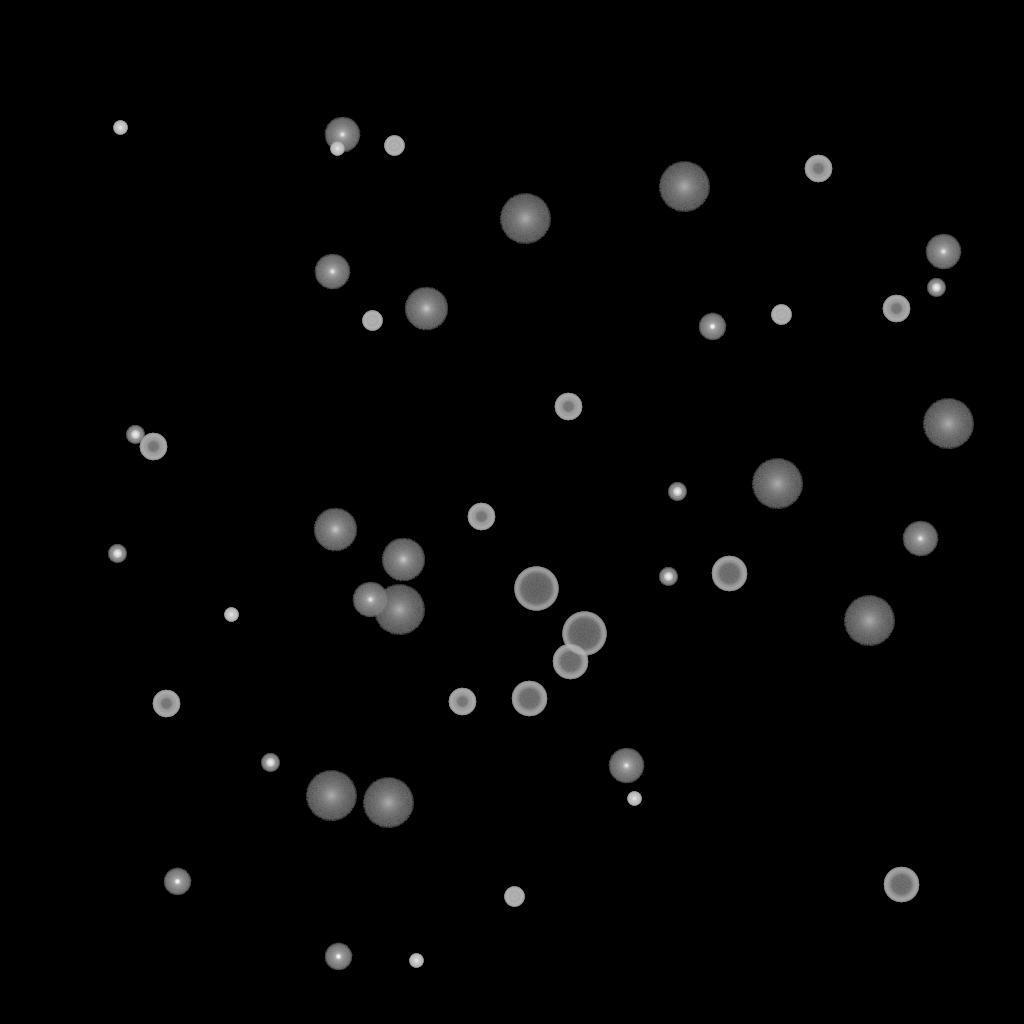depth:-10: (324, 943, 352, 971), (698, 313, 726, 341), (163, 868, 191, 896)
depth:-20: (126, 426, 144, 444), (261, 754, 279, 772), (108, 545, 126, 563), (927, 279, 945, 297), (668, 483, 686, 501), (659, 568, 677, 586)
depth:-30: (330, 142, 344, 156), (627, 792, 641, 806), (224, 608, 238, 622), (113, 121, 127, 135), (409, 954, 423, 968)
depth:-40: (771, 305, 791, 325), (504, 887, 524, 907), (384, 136, 404, 156), (362, 311, 382, 331)
depth:-50: (804, 155, 832, 183), (152, 690, 180, 718), (554, 393, 582, 421), (467, 503, 495, 531), (139, 433, 167, 461), (882, 295, 910, 323), (448, 688, 476, 716)
depth:-60: (552, 644, 588, 680), (711, 556, 747, 592), (511, 681, 547, 717), (883, 867, 919, 903)
depth:-70: (514, 567, 558, 611), (562, 612, 606, 656)
depth:0: (352, 582, 388, 618), (925, 234, 961, 270), (902, 521, 938, 557), (608, 748, 644, 784), (324, 117, 360, 153), (314, 254, 350, 290)
depth:10: (404, 287, 448, 331), (313, 508, 357, 552), (381, 538, 425, 582)
depth:20: (843, 596, 895, 646), (362, 778, 414, 828), (658, 162, 710, 212), (373, 585, 425, 635), (305, 771, 357, 821), (922, 399, 974, 449), (751, 459, 803, 509), (499, 194, 551, 244)
